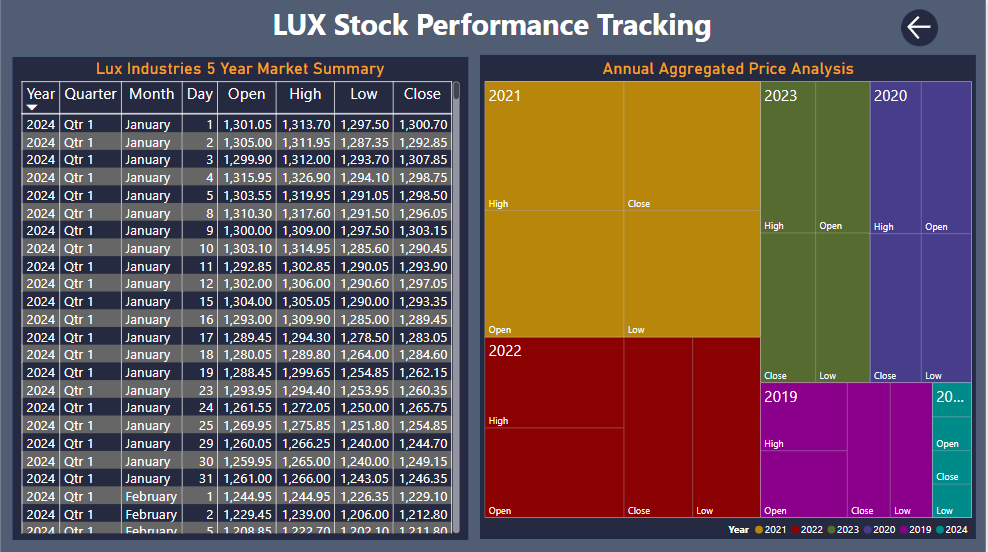

Layout of this report page (visuals, bound fields, positions):
{"tool":"powerbi","page":{"name":"Performance Tracking","canvas":[1280,720],"ordinal":3},"visuals":[{"type":"tableEx","title":"Lux Industries 5 Year Market Summary","fields":{"Values":["LUXIND NS.Date.Variation.Date Hierarchy.Year","LUXIND NS.Date.Variation.Date Hierarchy.Quarter","LUXIND NS.Date.Variation.Date Hierarchy.Month","LUXIND NS.Date.Variation.Date Hierarchy.Day","Sum(LUXIND NS.Open)","Sum(LUXIND NS.High)","Sum(LUXIND NS.Low)","Sum(LUXIND NS.Close)"]},"box":[22.2,76.4,579.6,621.3],"z":0},{"type":"treemap","title":"Annual Aggregated Price Analysis","fields":{"Values":["Sum(Lux Dataset.Open)","Sum(Lux Dataset.High)","Sum(Lux Dataset.Low)","Sum(Lux Dataset.Close)"],"Group":["Lux Dataset.Year","Lux Dataset.Quarter","Lux Dataset.Month","Lux Dataset.Day"]},"box":[624.6,76.8,642,630],"z":1000},{"type":"textbox","box":[20,0,1238.6,67.1],"z":2000},{"type":"actionButton","box":[1174.5,15.3,44.5,40.3],"z":3000}]}

Visuals, with their boxes in screenshot pixels (x1, y1, x2, y2), scaled from the page's 1280x720 canvas onto the 988x552 screenshot:
"Lux Industries 5 Year Market Summary" tableEx: [17,59,465,535]
"Annual Aggregated Price Analysis" treemap: [482,59,978,542]
textbox: [15,0,971,51]
actionButton: [907,12,941,43]
